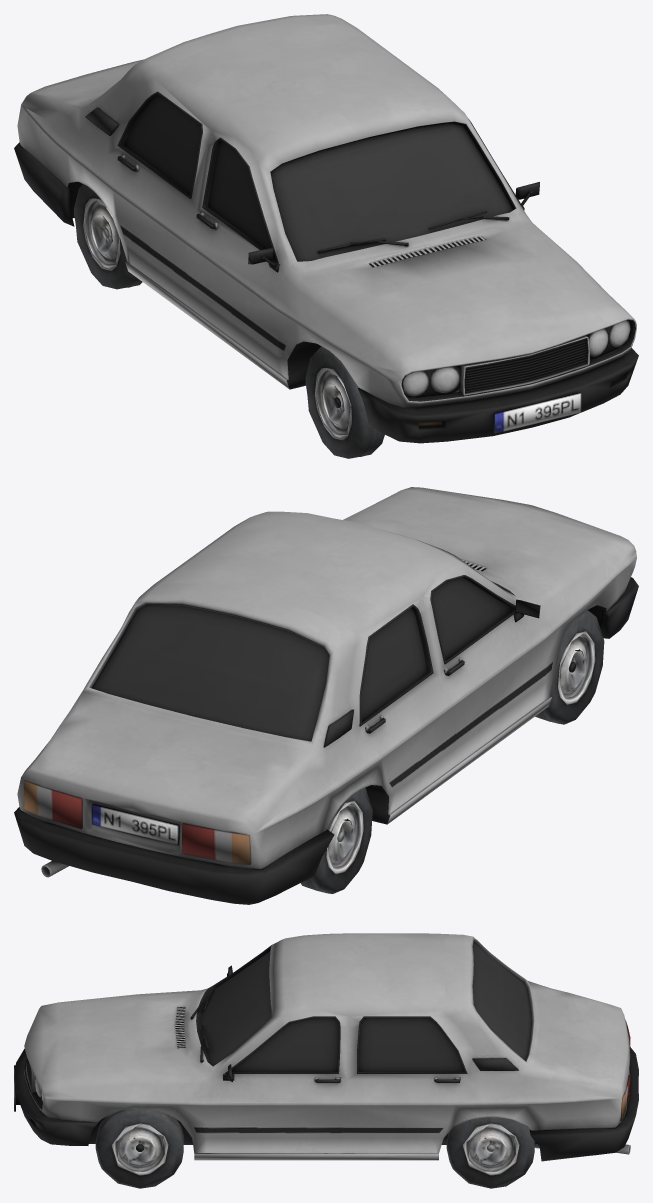
The model's file is renault-12.glb.
The picture shows the model from 3 angles, top to bottom: view 1: azimuth 30°, elevation 25°; view 2: azimuth 150°, elevation 25°; view 3: azimuth 270°, elevation 25°; orthographic projection. The views are drawn at different scales.
Parts seen in each view (by area): view 1: R 12, car wheel 4.003_0, car wheel 4.004_0; view 2: R 12, car wheel 4.003_0, car wheel 4.004_0; view 3: R 12, car wheel 4.006_0, car wheel 4.005_0.
Part boxes in pixels (bbox=[...]): R 12: bbox=[14, 14, 638, 443]; car wheel 4.003_0: bbox=[305, 346, 384, 458]; car wheel 4.004_0: bbox=[74, 184, 142, 289]; R 12: bbox=[14, 487, 638, 904]; car wheel 4.003_0: bbox=[535, 610, 604, 724]; car wheel 4.004_0: bbox=[301, 787, 372, 893]; R 12: bbox=[14, 933, 638, 1161]; car wheel 4.006_0: bbox=[95, 1108, 184, 1188]; car wheel 4.005_0: bbox=[446, 1117, 534, 1188].
Bounding box in the file's own units: 1.76 × 1.42 × 4.32.
Materials: 2 (2 with a texture image).
